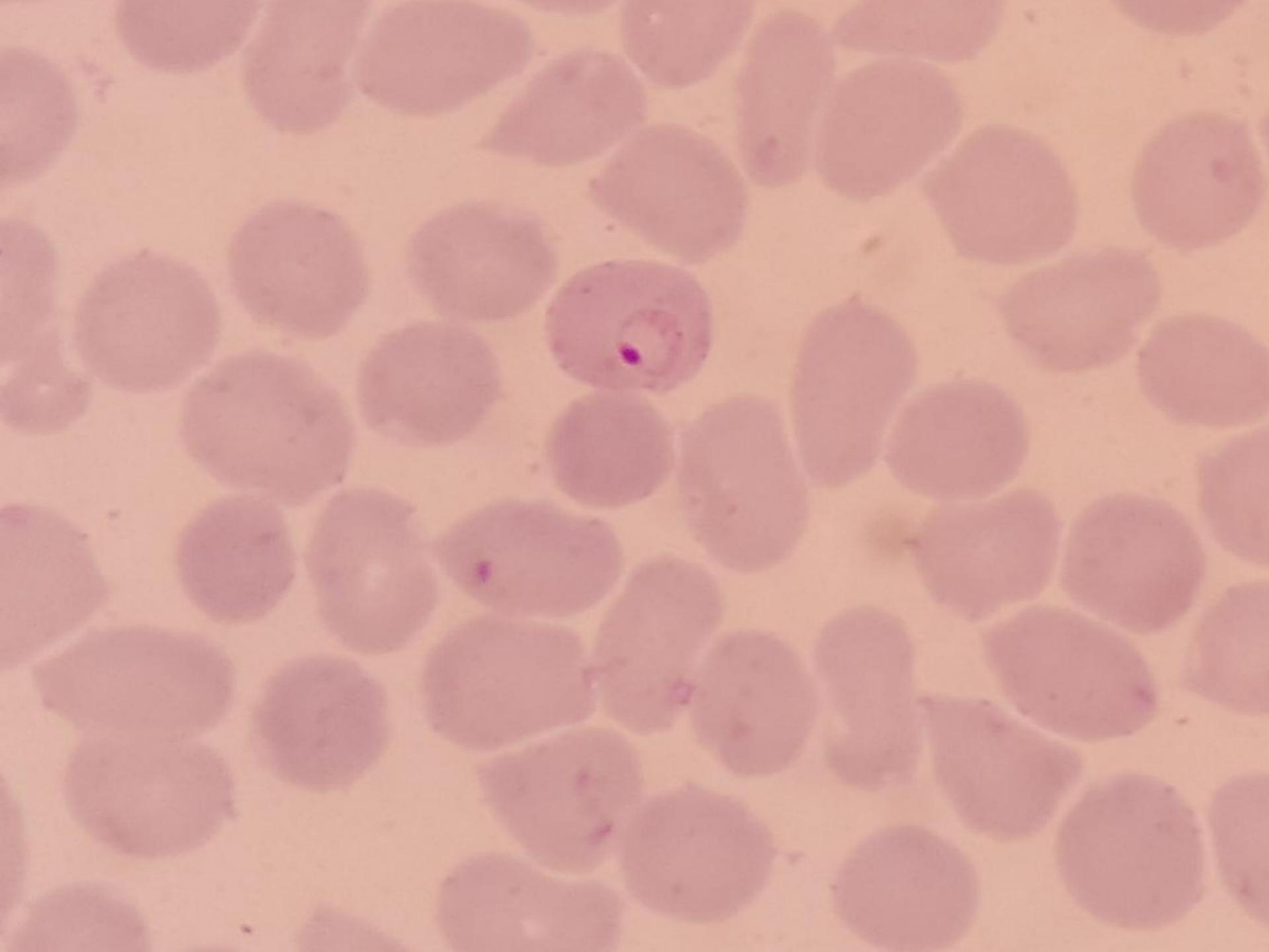Infected: (547, 261, 707, 393)
Uninfected: (180, 351, 358, 503), (469, 727, 643, 875), (985, 603, 1159, 742), (674, 395, 812, 570), (587, 555, 721, 733), (302, 487, 443, 653), (1051, 775, 1207, 925), (789, 298, 915, 483), (40, 625, 232, 745), (421, 616, 594, 749), (63, 731, 237, 861), (590, 124, 748, 264), (72, 246, 223, 392), (920, 689, 1076, 829), (443, 497, 628, 614), (925, 121, 1077, 263), (905, 484, 1062, 620), (1056, 491, 1202, 635), (813, 53, 960, 195), (618, 788, 772, 923), (224, 200, 372, 340), (998, 246, 1158, 374), (808, 604, 923, 779), (356, 319, 508, 451), (826, 821, 981, 950), (251, 655, 393, 795), (688, 626, 817, 779), (484, 47, 652, 164), (355, 0, 529, 109), (1134, 108, 1265, 252), (436, 851, 619, 952), (405, 202, 556, 324), (882, 378, 1028, 503), (174, 495, 301, 628), (734, 10, 829, 186), (241, 0, 362, 133), (1134, 311, 1269, 430), (3, 509, 103, 669), (545, 387, 673, 508), (620, 0, 753, 88), (1187, 580, 1269, 715), (3, 48, 79, 190), (835, 3, 1003, 66), (1196, 425, 1269, 559), (119, 1, 254, 70)
